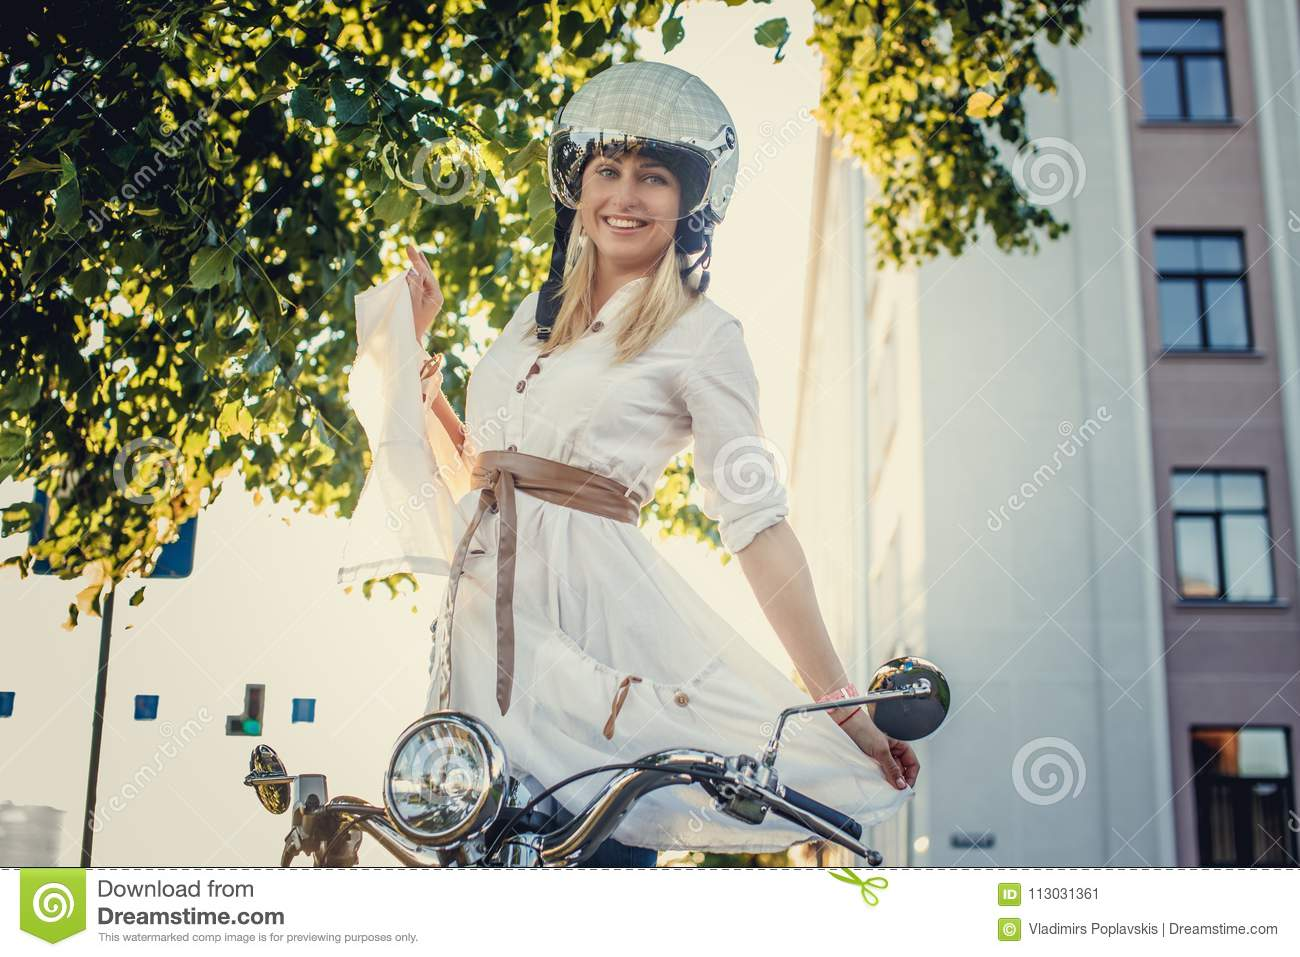helmet: (552, 57, 739, 236)
